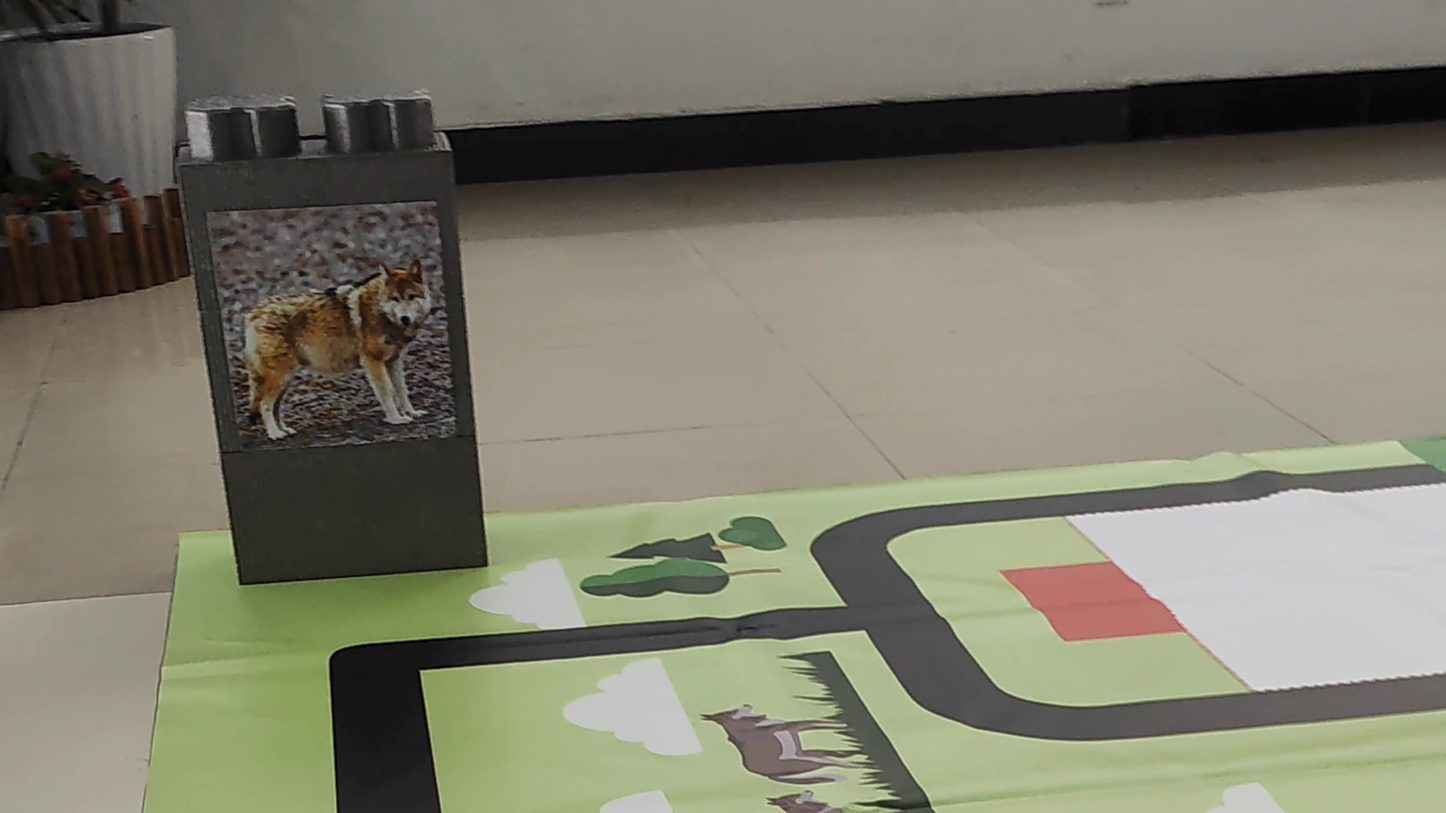wolf: (212, 202, 442, 451)
